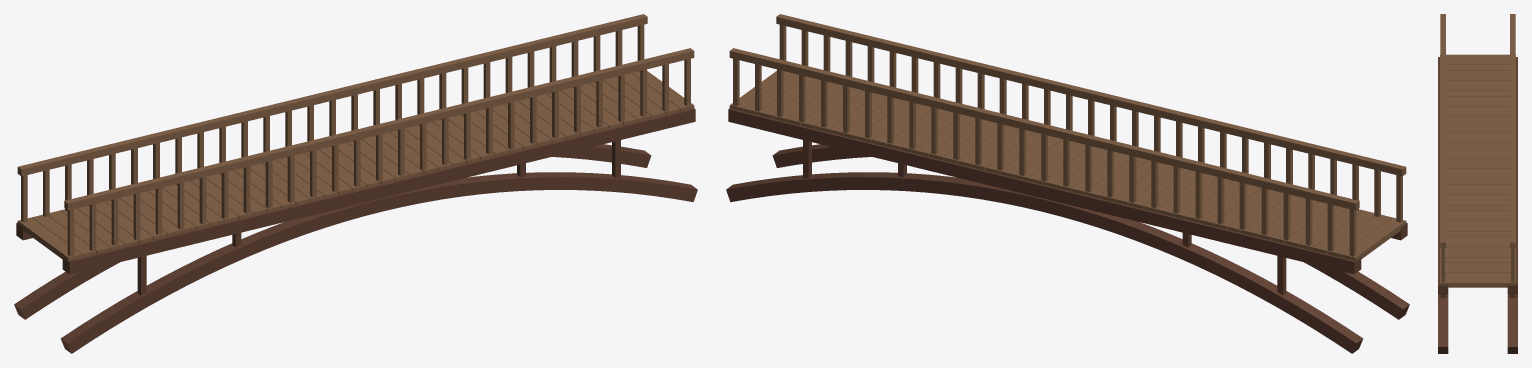
File: courtyard_link.glb
3 views of the same model, side by side, from view 1: azimuth 30°, elevation 25°; view 2: azimuth 150°, elevation 25°; view 3: azimuth 270°, elevation 25° (orthographic). The views are drawn at different scales.
Visible parts, largest first — view 1: courtyard_link; view 2: courtyard_link; view 3: courtyard_link.
Boxes of the visible parts, x1,y1,x2,y2 form: courtyard_link: (14,14,697,353); courtyard_link: (726,14,1409,353); courtyard_link: (1438,14,1517,353).
Bounding box in the file's own units: 13.29 × 3.02 × 1.95.
